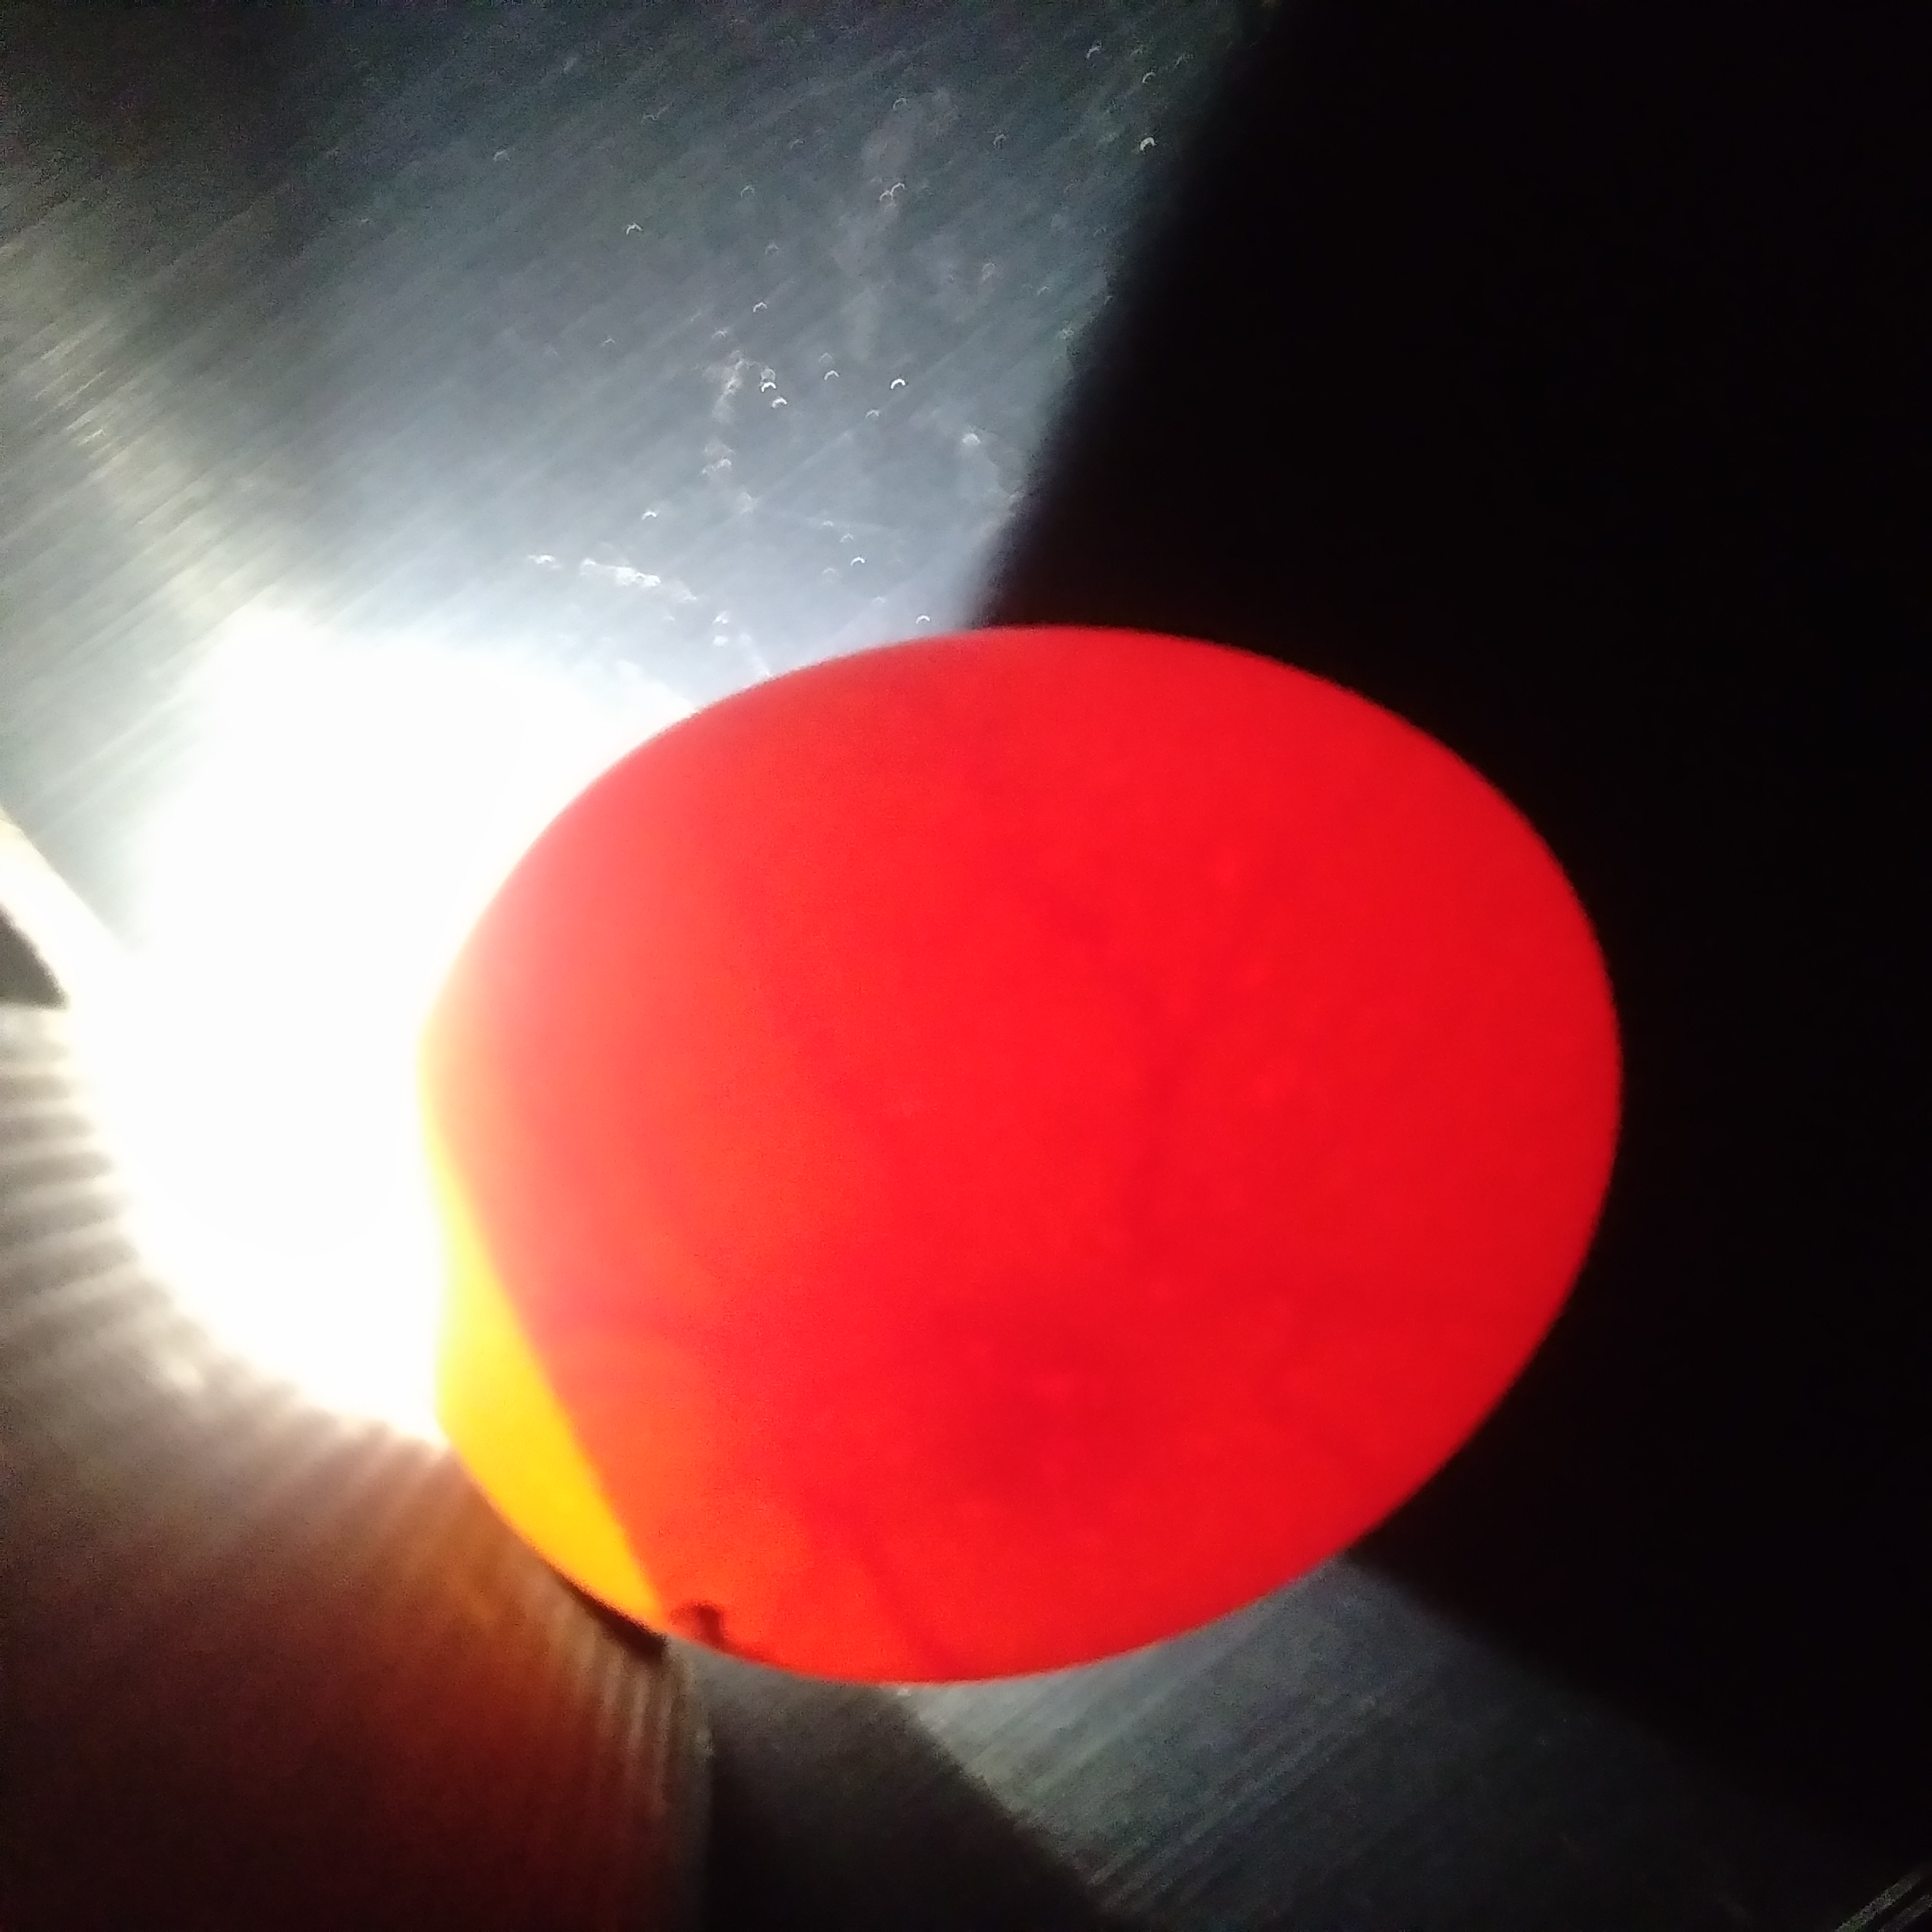bloodcell: (533, 1095, 775, 1396), (828, 1523, 1046, 1675)
embryo: (865, 1253, 1166, 1500)
